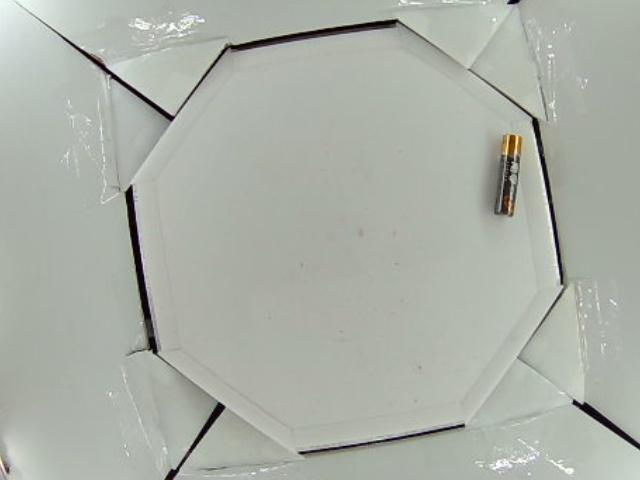Battery: (492, 134, 526, 219)
